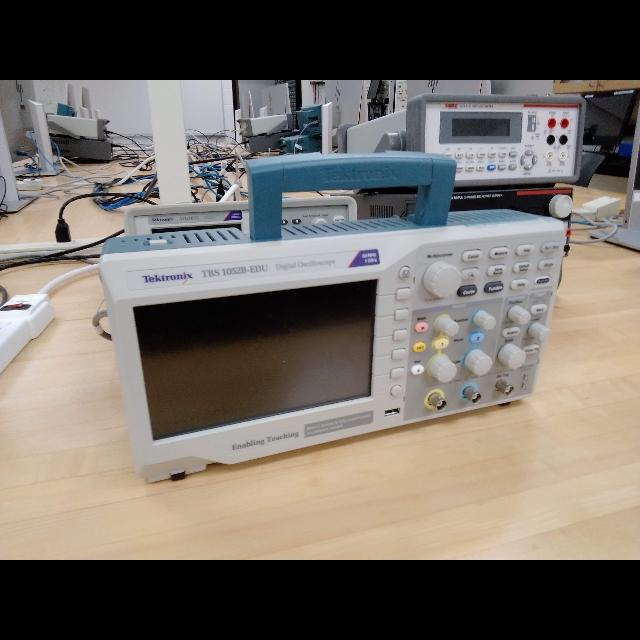Digital-Oscilloscope: (102, 227, 565, 482)
